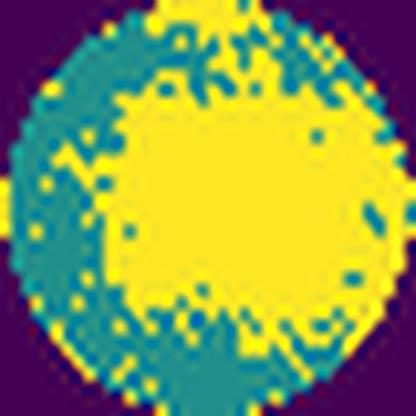Loc: (54, 0, 415, 359)
